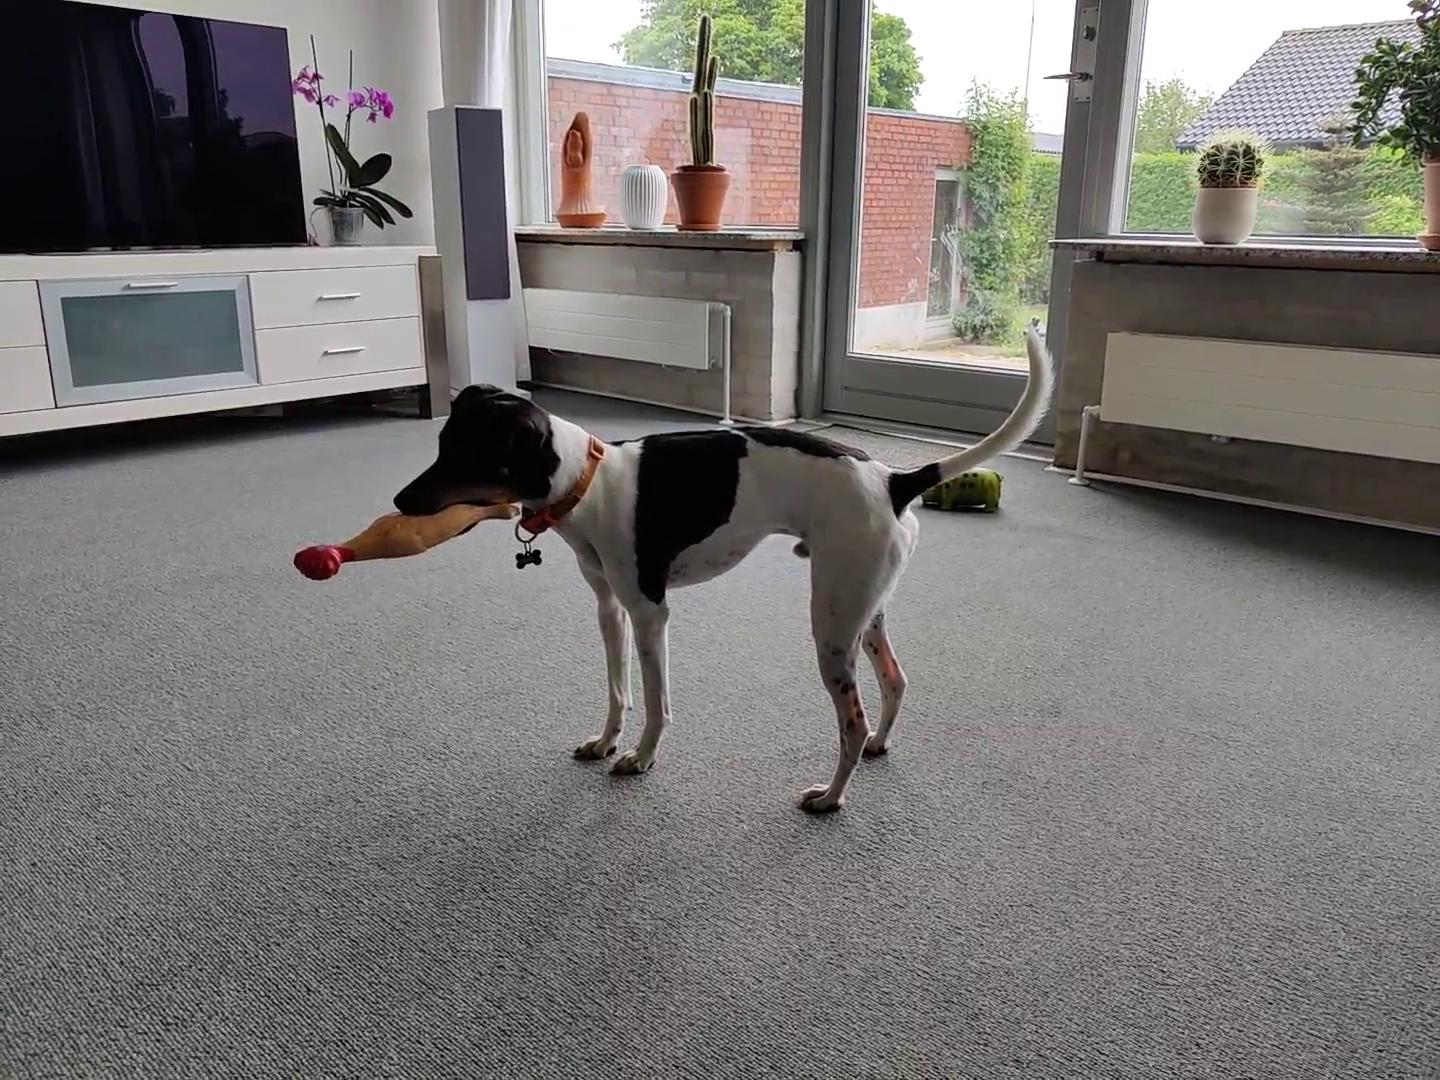Dog: (389, 334, 1065, 830)
